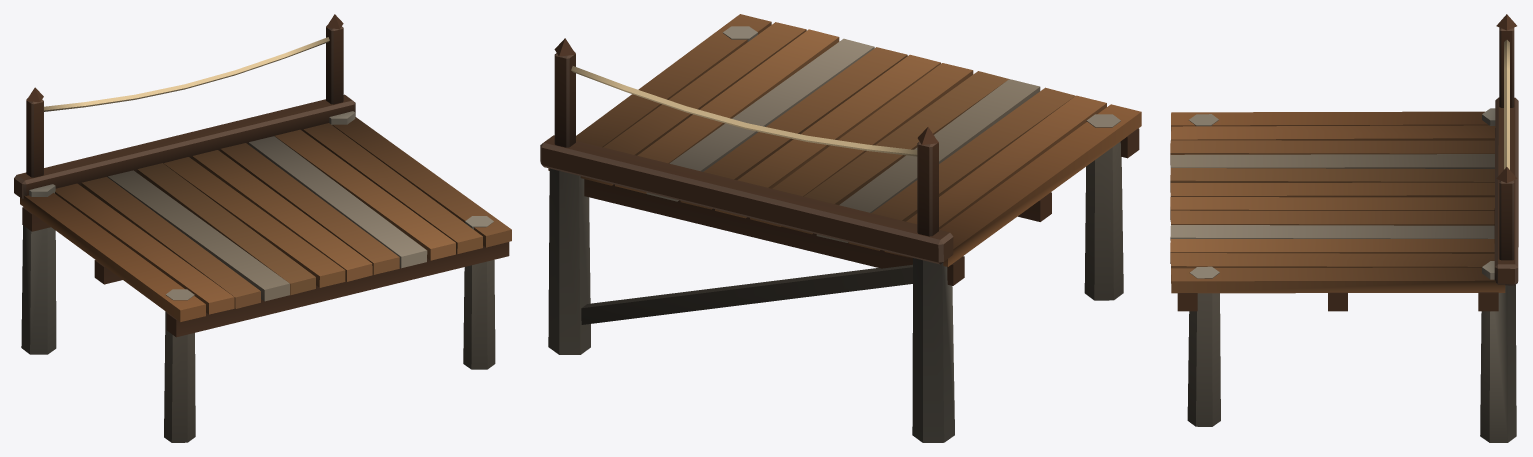
The model's file is HD_Boardwalk.glb.
The picture shows the model from 3 angles, left to right: view 1: azimuth 30°, elevation 25°; view 2: azimuth 150°, elevation 25°; view 3: azimuth 270°, elevation 25°; orthographic projection. The views are drawn at different scales.
Parts seen in each view (by area): view 1: HD_Boardwalk_1_Wood, HD_Boardwalk_2_SmoothPlastic; view 2: HD_Boardwalk_1_Wood, HD_Boardwalk_2_SmoothPlastic; view 3: HD_Boardwalk_1_Wood, HD_Boardwalk_2_SmoothPlastic.
Boxes of the visible parts, <box> form: HD_Boardwalk_1_Wood: <box>14,14,511,442</box>; HD_Boardwalk_2_SmoothPlastic: <box>44,37,329,111</box>; HD_Boardwalk_1_Wood: <box>540,14,1141,442</box>; HD_Boardwalk_2_SmoothPlastic: <box>571,66,917,156</box>; HD_Boardwalk_1_Wood: <box>1170,14,1518,442</box>; HD_Boardwalk_2_SmoothPlastic: <box>1504,40,1509,169</box>.
Bounding box in the file's own units: 12.02 × 8.91 × 10.42.
